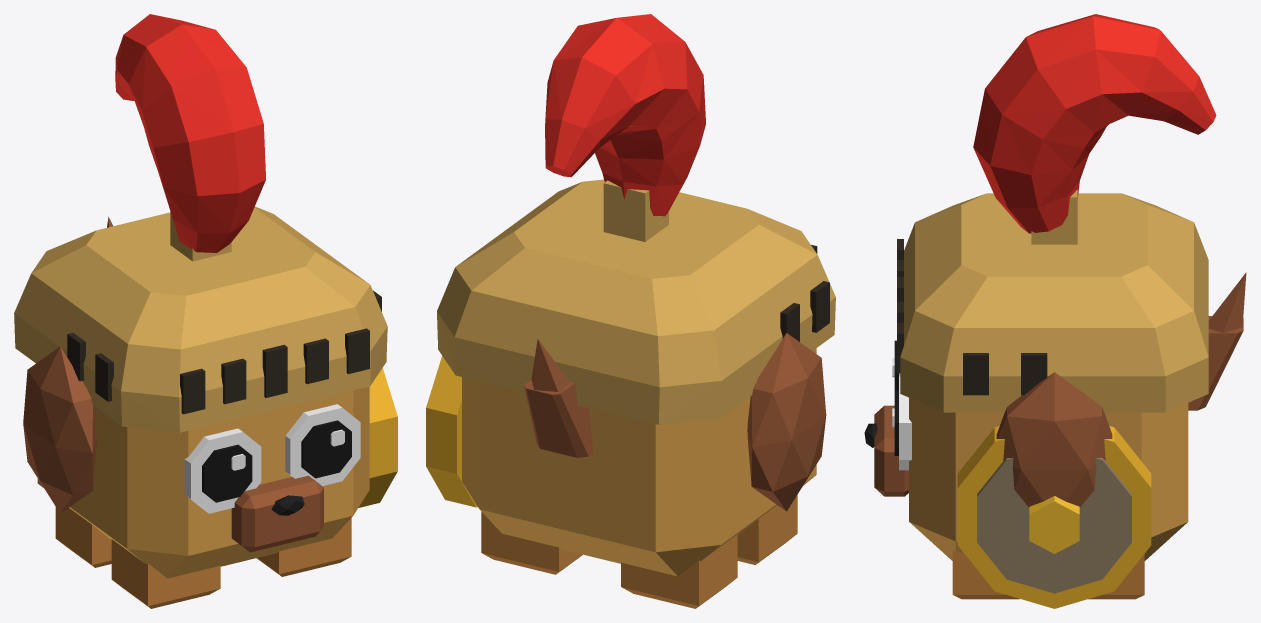
The model's file is GuardDog.fbx.
The picture shows the model from 3 angles, left to right: view 1: azimuth 30°, elevation 25°; view 2: azimuth 150°, elevation 25°; view 3: azimuth 270°, elevation 25°; orthographic projection. The views are drawn at different scales.
Visible parts, largest first — view 1: GuardDog_Helmet, GuardDog_Plume, GuardDog, GuardDog_Ears, GuardDog_Feet, GuardDog_Slits, GuardDog_Eyes, GuardDog_Snout, GuardDog_Pupils, GuardDog_ShieldRim; view 2: GuardDog_Helmet, GuardDog, GuardDog_Plume, GuardDog_Ears, GuardDog_Feet, GuardDog_Tail, GuardDog_ShieldRim, GuardDog_Slits; view 3: GuardDog_Helmet, GuardDog_Plume, GuardDog, GuardDog_ShieldFace, GuardDog_Ears, GuardDog_ShieldRim, GuardDog_Slits, GuardDog_Tail, GuardDog_Feet, GuardDog_ShieldBoss, GuardDog_Snout, GuardDog_Eyes (+1 smaller).
Part boxes in pixels (x1,y1,x2,y2): GuardDog_Helmet: (14,206,387,432); GuardDog_Plume: (115,14,265,252); GuardDog: (37,386,369,578); GuardDog_Ears: (23,346,96,513); GuardDog_Feet: (55,507,351,608); GuardDog_Slits: (67,290,381,414); GuardDog_Eyes: (184,404,360,513); GuardDog_Snout: (231,475,323,552); GuardDog_Pupils: (202,420,351,502); GuardDog_ShieldRim: (358,368,397,507); GuardDog_Helmet: (437,179,835,424); GuardDog: (462,348,816,576); GuardDog_Plume: (545,14,705,216); GuardDog_Ears: (747,333,826,511); GuardDog_Feet: (481,495,797,608); GuardDog_Tail: (524,339,593,457); GuardDog_ShieldRim: (426,356,477,507); GuardDog_Slits: (780,245,829,341); GuardDog_Helmet: (900,189,1208,412); GuardDog_Plume: (973,14,1216,233); GuardDog: (909,398,1188,560); GuardDog_ShieldFace: (977,458,1131,593); GuardDog_Ears: (996,372,1112,507); GuardDog_ShieldRim: (957,426,1151,608); GuardDog_Slits: (897,239,1047,395); GuardDog_Tail: (1188,272,1246,410); GuardDog_Feet: (952,550,1144,599); GuardDog_ShieldBoss: (1029,496,1079,553); GuardDog_Snout: (874,405,908,496); GuardDog_Eyes: (892,358,911,470).
Bounding box in the file's own units: 2.75 × 4.06 × 2.63.
